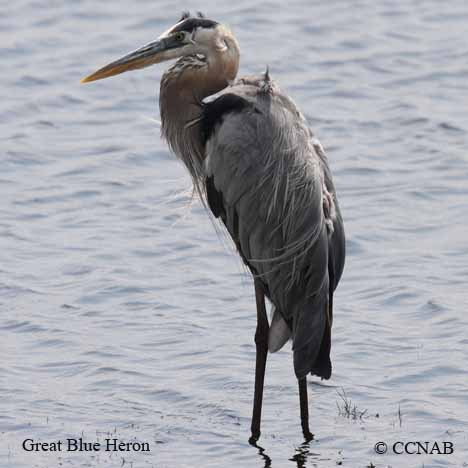heron: (72, 11, 361, 426)
